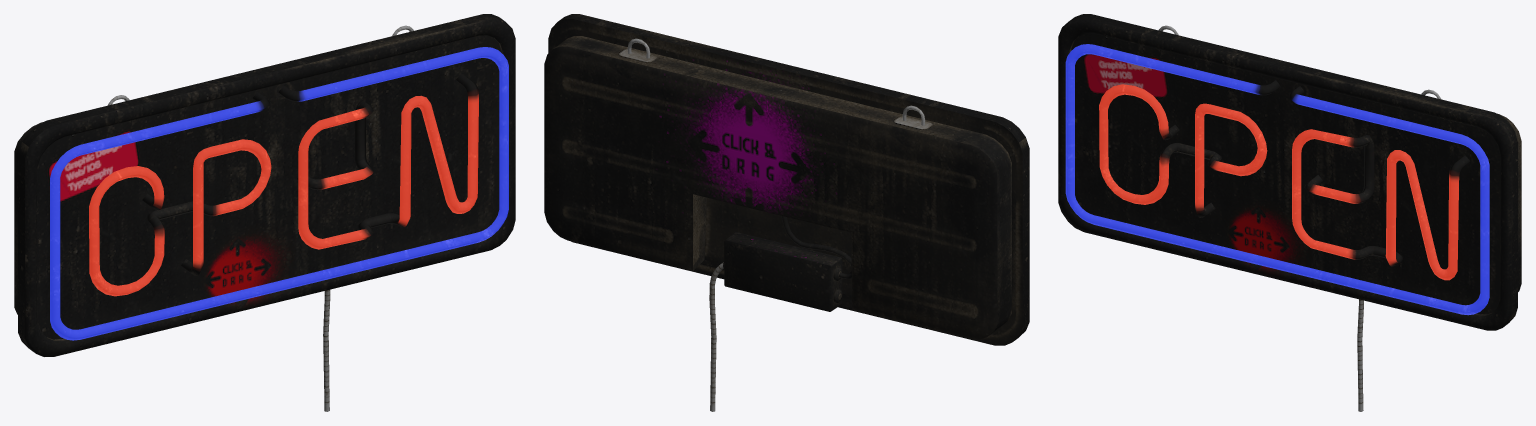
The model's file is Sign.gltf.
3 renders of one model, left to right at view 1: azimuth 30°, elevation 25°; view 2: azimuth 150°, elevation 25°; view 3: azimuth 330°, elevation 25°, orthographic. The views are drawn at different scales.
Parts seen in each view (by area): view 1: opensign_turbo.001; view 2: opensign_turbo.001; view 3: opensign_turbo.001.
Part boxes in pixels (x1=…): opensign_turbo.001: x1=14, y1=14, x2=515, y2=411; opensign_turbo.001: x1=544, y1=14, x2=1029, y2=411; opensign_turbo.001: x1=1058, y1=14, x2=1521, y2=411.
Size of the model in its own units: 7.31 by 5.21 by 0.939.
Materials: 1 (1 with a texture image).
